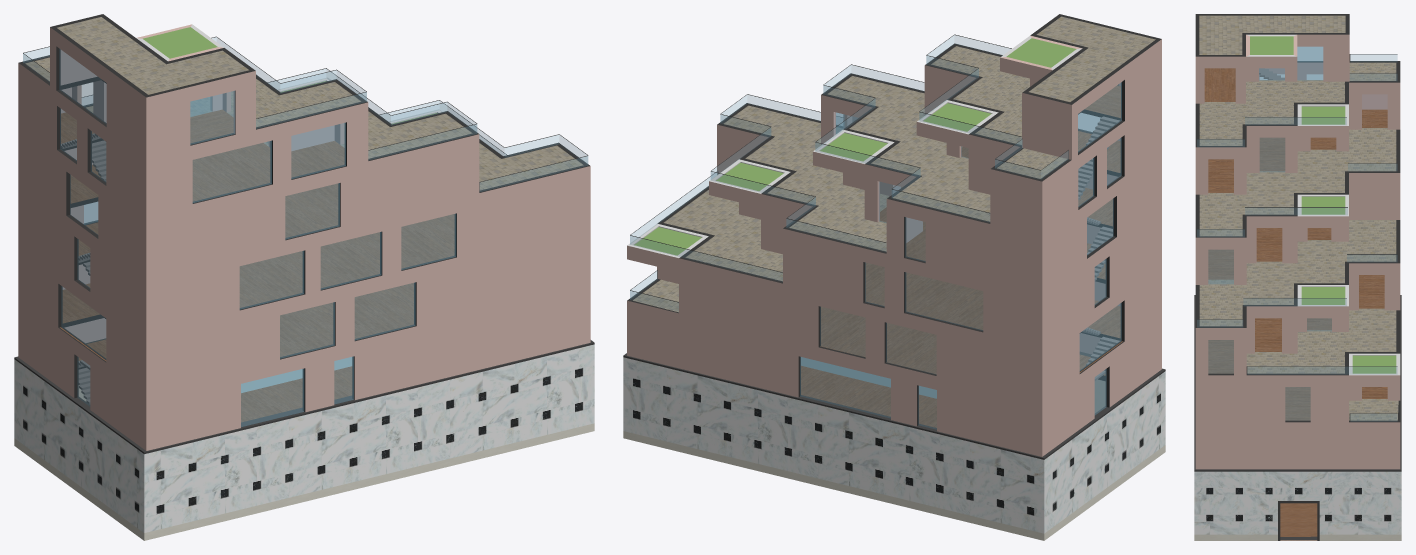
3 renders of one model, left to right at view 1: azimuth 30°, elevation 25°; view 2: azimuth 150°, elevation 25°; view 3: azimuth 270°, elevation 25°, orthographic. The views are drawn at different scales.
Parts seen in each view (by area): view 1: Top facade, Ground Facade, Top Slabs, Top Glass., Ballustrades, 01_slab, Planters, Glass Slab; view 2: Top facade, Ground Facade, Top Slabs, Top Glass., Ballustrades, Planters, 01_slab, 00_Ramp_stair.008, Glass Slab; view 3: Top Slabs, Top facade, Ground Facade, Planters, Ballustrades, Top Glass., Ground Slab.
Boxes of the visible parts, left/top/right/bottom form: Top facade: left=18, top=14, right=590, bottom=450; Ground Facade: left=14, top=338, right=594, bottom=540; Top Slabs: left=25, top=17, right=583, bottom=361; Top Glass.: left=59, top=49, right=455, bottom=426; Ballustrades: left=23, top=36, right=588, bottom=191; 01_slab: left=78, top=339, right=352, bottom=422; Planters: left=136, top=24, right=441, bottom=124; Glass Slab: left=241, top=357, right=351, bottom=392; Top facade: left=627, top=14, right=1161, bottom=456; Ground Facade: left=623, top=351, right=1165, bottom=540; Top Slabs: left=633, top=16, right=1155, bottom=373; Top Glass.: left=800, top=82, right=1121, bottom=429; Ballustrades: left=630, top=34, right=1068, bottom=311; Planters: left=627, top=35, right=1082, bottom=271; 01_slab: left=801, top=354, right=1105, bottom=427; 00_Ramp_stair.008: left=1078, top=116, right=1119, bottom=280; Glass Slab: left=801, top=357, right=936, bottom=398; Top Slabs: left=1199, top=15, right=1398, bottom=420; Top facade: left=1195, top=14, right=1400, bottom=469; Ground Facade: left=1194, top=295, right=1401, bottom=540; Planters: left=1246, top=34, right=1400, bottom=386; Ballustrades: left=1197, top=54, right=1397, bottom=421; Top Glass.: left=1208, top=46, right=1331, bottom=420; Ground Slab: left=1280, top=503, right=1317, bottom=540.
Size of what is drawn, in the model's own units: 32 by 30 by 16.
19 materials, 5 textured.
